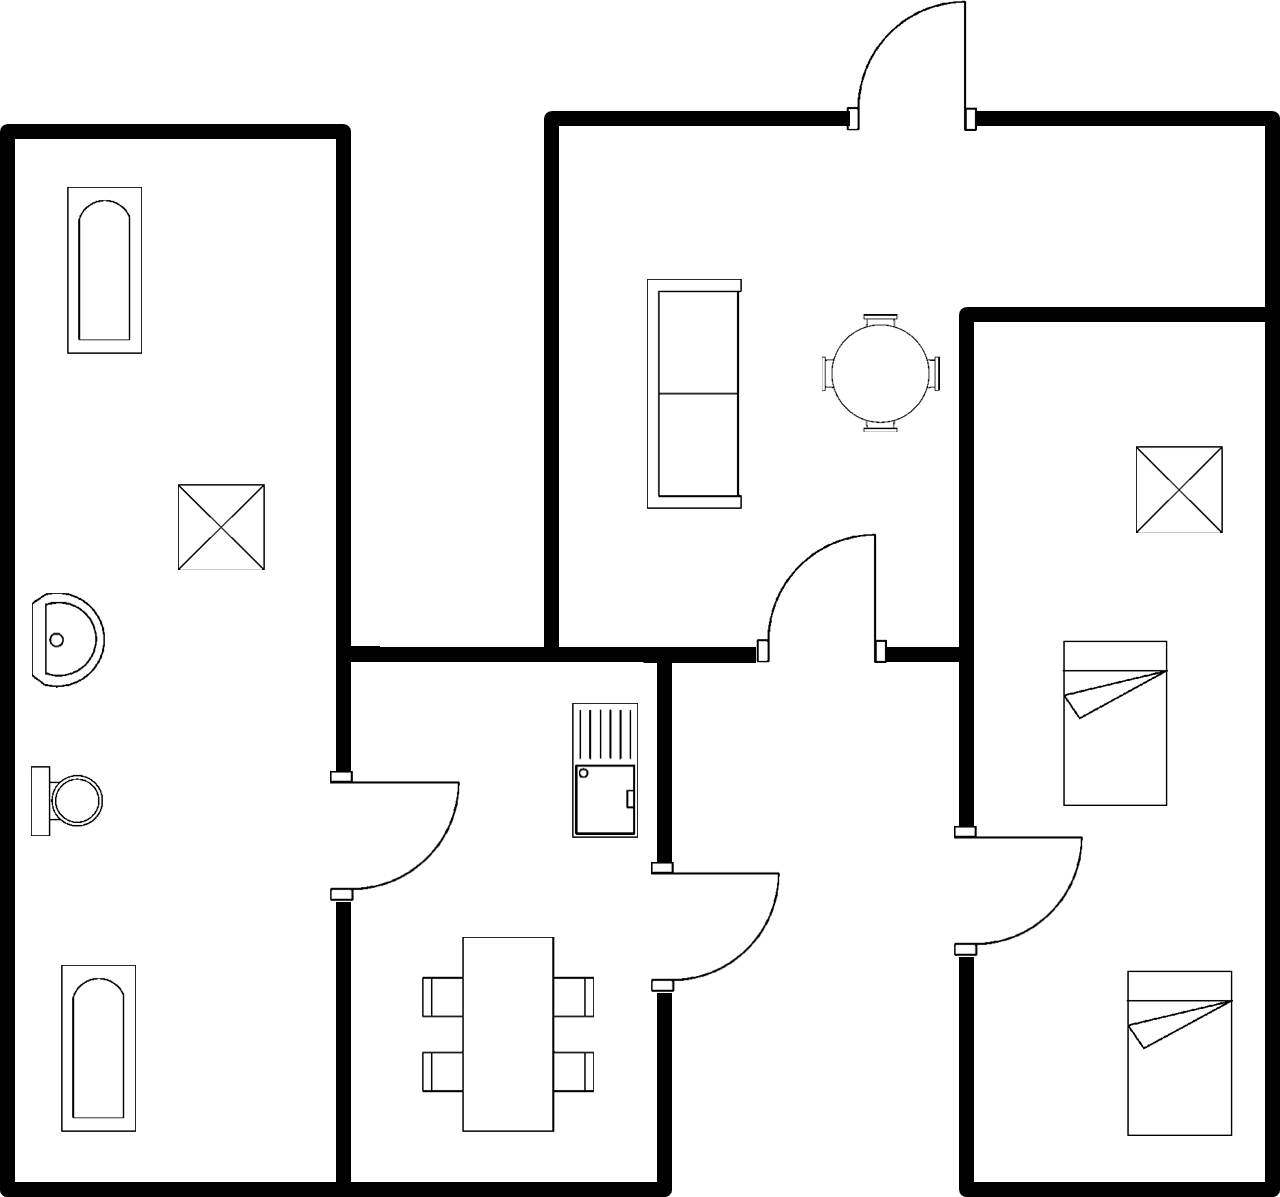bed: (1120, 961, 1242, 1147), (1054, 632, 1173, 817)
coffee_table: (1123, 436, 1235, 547), (169, 474, 271, 579)
dining_table: (417, 925, 603, 1140)
large_sink: (24, 755, 111, 847)
large_sofa: (638, 270, 751, 522)
round_table: (812, 306, 947, 442)
sink: (562, 695, 645, 849)
small_sink: (24, 585, 112, 700)
tub: (59, 178, 152, 364), (55, 957, 147, 1141)
